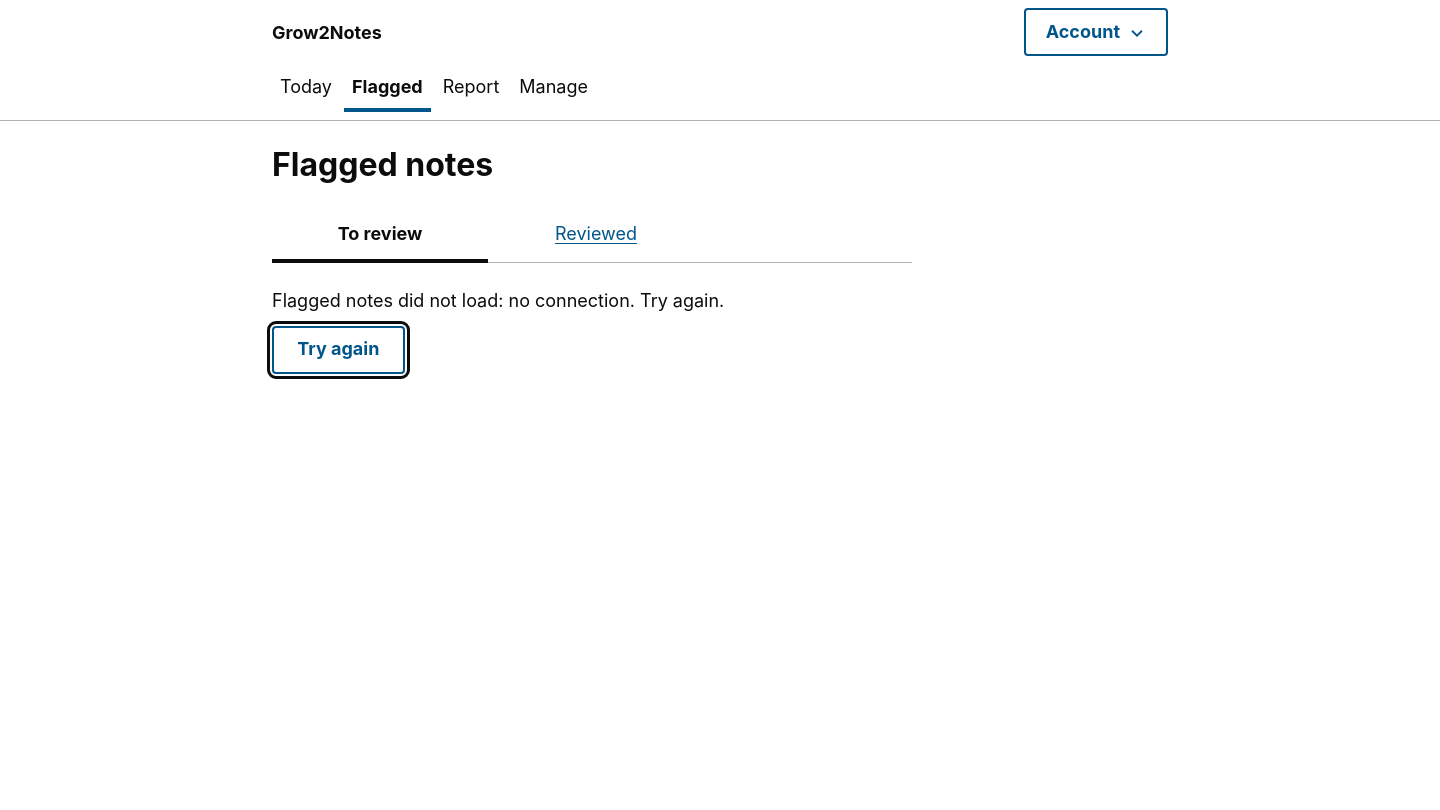
Scenario: Flagged notes when the list did not load › says the list did not load, for no connection, under the <h1>, with Try again
This screenshot has width=1440, height=810.
Expected: the number of headings is 1, [272,145,493,185]
Click the button "Try again" at (338, 350), box [272,326,405,374]
Wait 2 ms
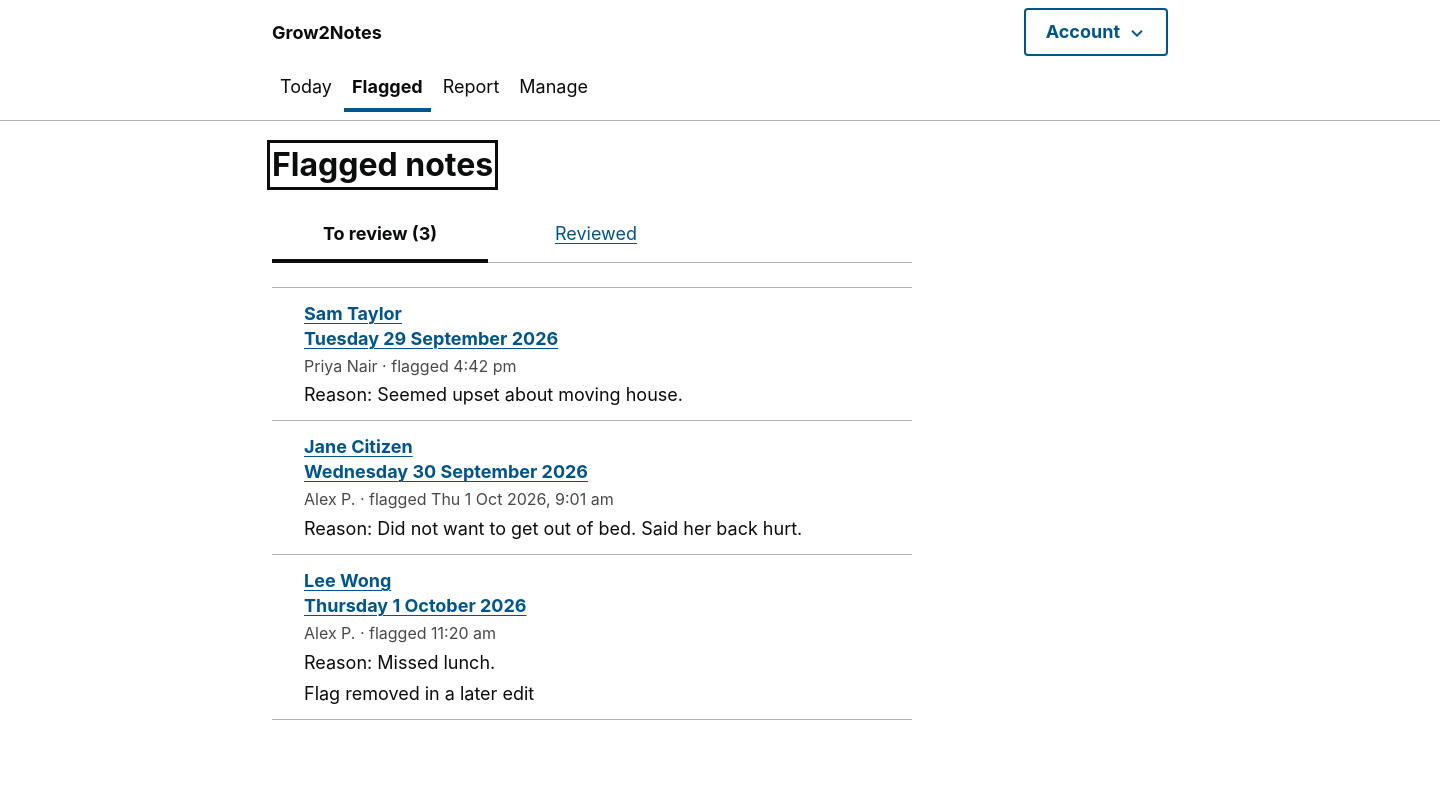
Expected: the button "Try again" is gone
